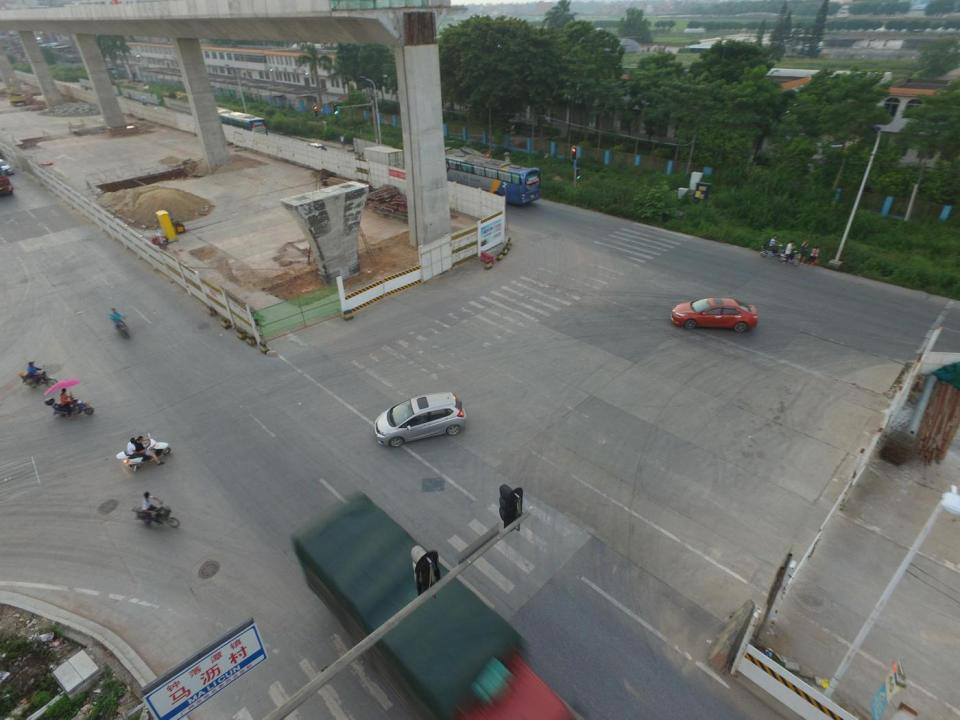bus: (433, 146, 541, 206), (198, 104, 268, 148)
car: (374, 390, 466, 449), (671, 297, 758, 336)
van: (298, 141, 329, 165)
